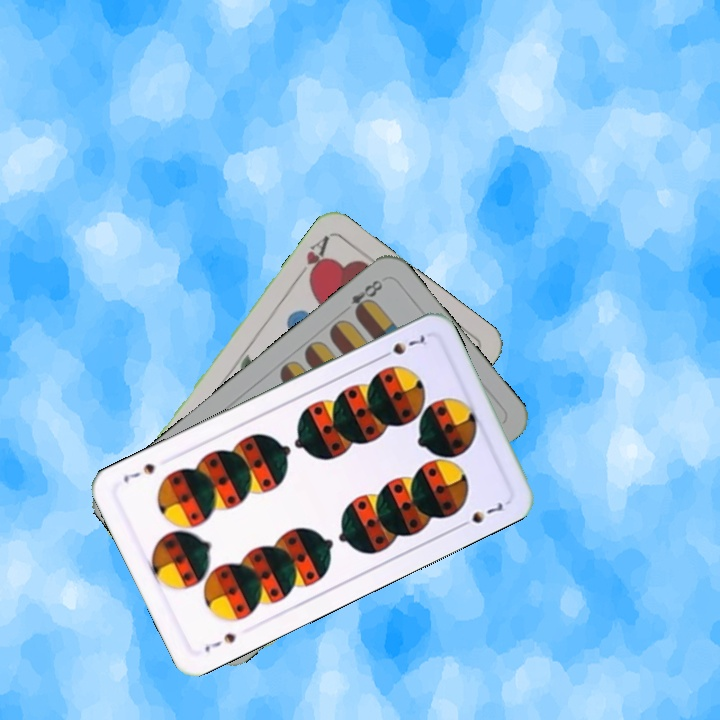E8: (347, 275, 386, 318)
HA: (291, 231, 332, 284)
S7: (375, 331, 428, 362), (200, 629, 239, 655)
